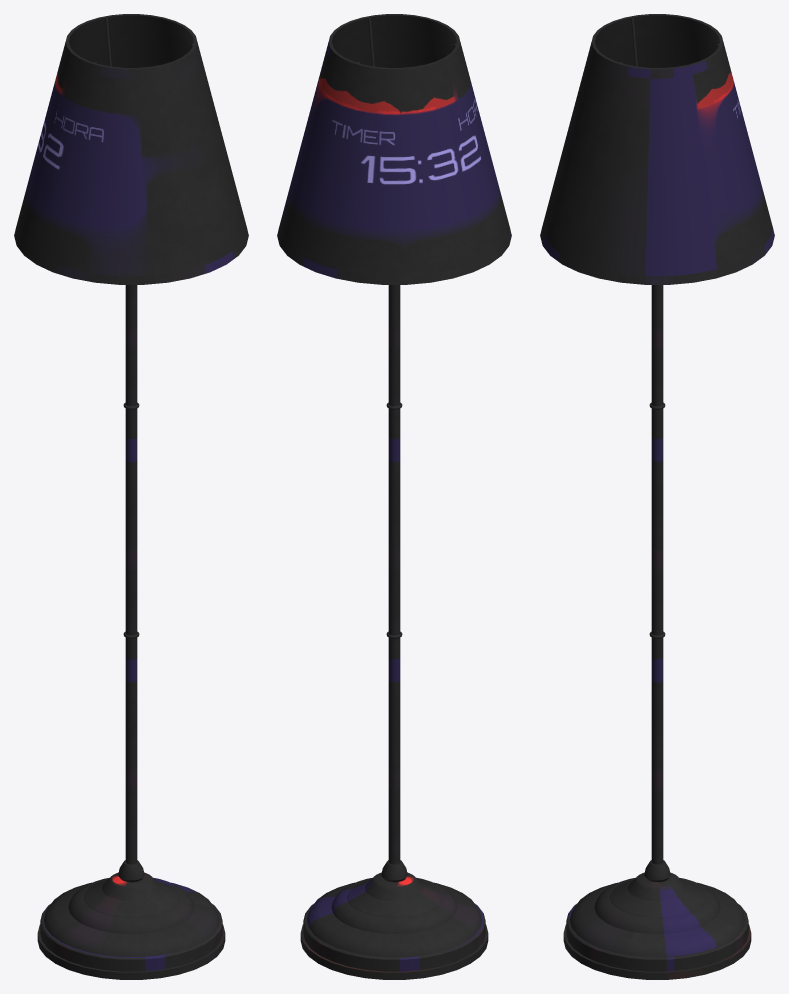
The model's file is ikea_lamp 1.fbx.
3 views of the same model, side by side, from view 1: azimuth 30°, elevation 25°; view 2: azimuth 150°, elevation 25°; view 3: azimuth 270°, elevation 25° (orthographic).
Parts seen in each view (by area): view 1: polySurface4; view 2: polySurface4; view 3: polySurface4.
Boxes of the visible parts, left/top/right/bottom form: polySurface4: left=14, top=14, right=248, bottom=979; polySurface4: left=277, top=14, right=511, bottom=979; polySurface4: left=540, top=14, right=774, bottom=979.
Bounding box in the file's own units: 35.53 × 151 × 35.72.
Materials: 1 (1 with a texture image).
